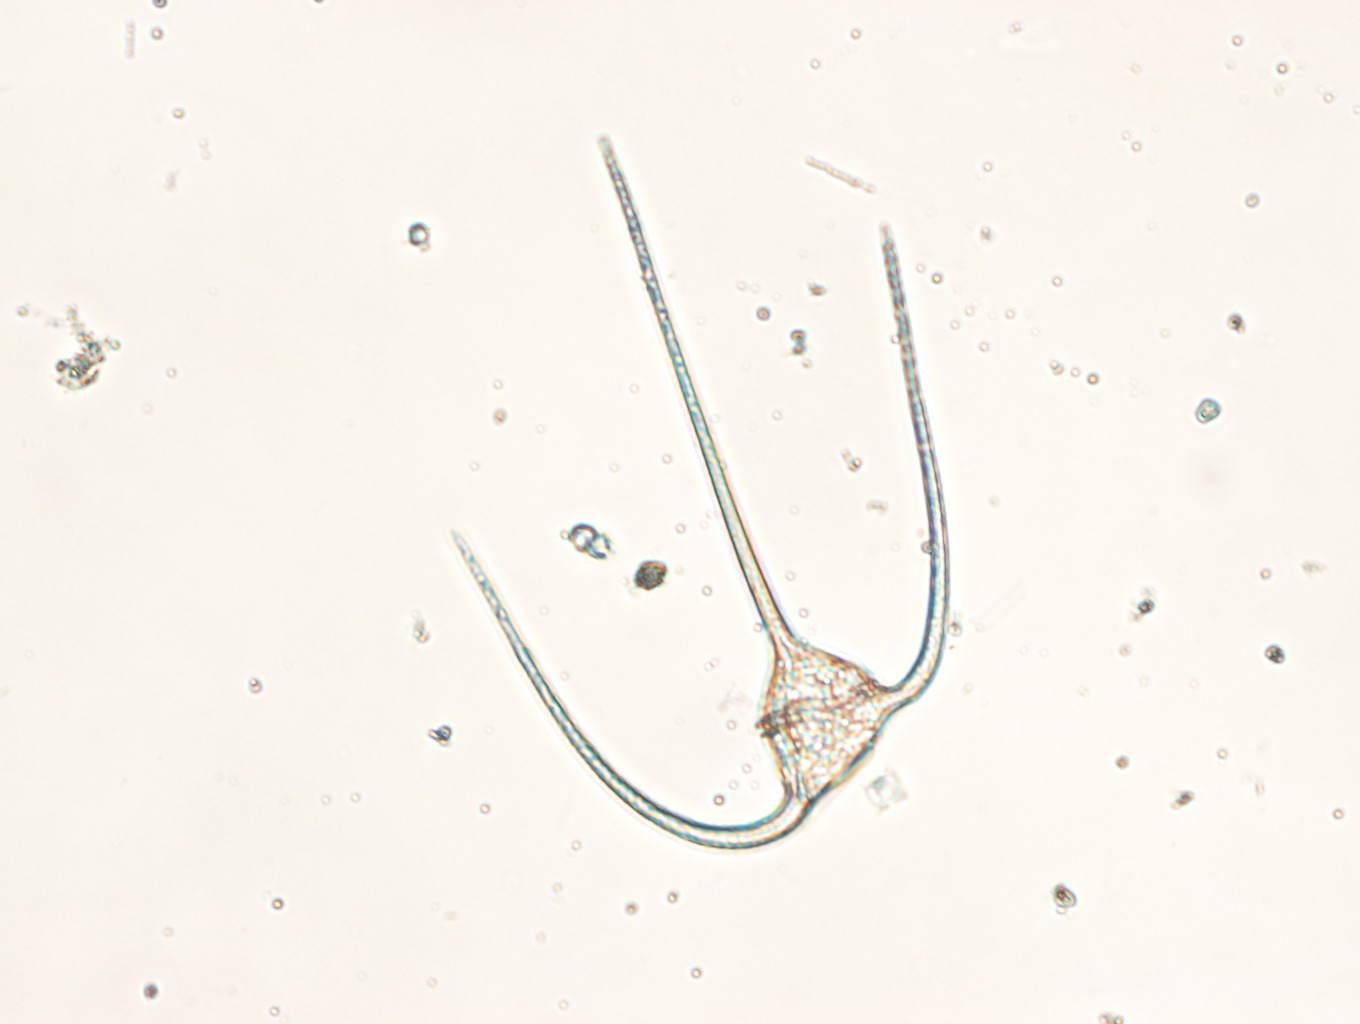ceratium trichoceros: (452, 137, 953, 847)
